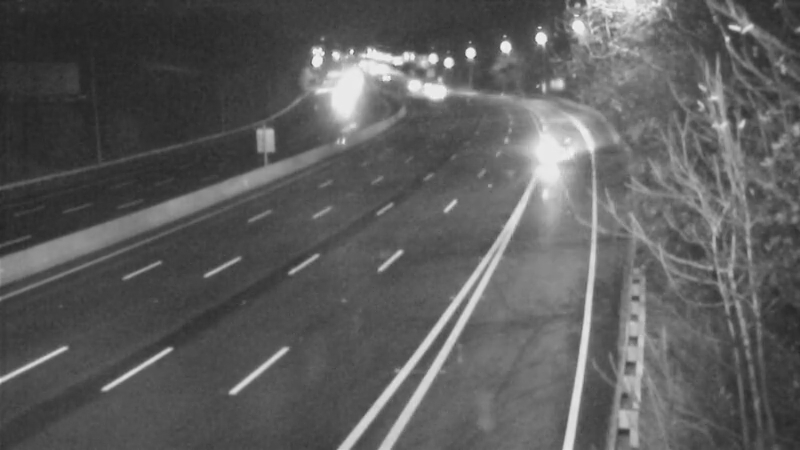vehicle: (515, 112, 595, 192), (387, 62, 437, 112), (408, 68, 458, 118)
